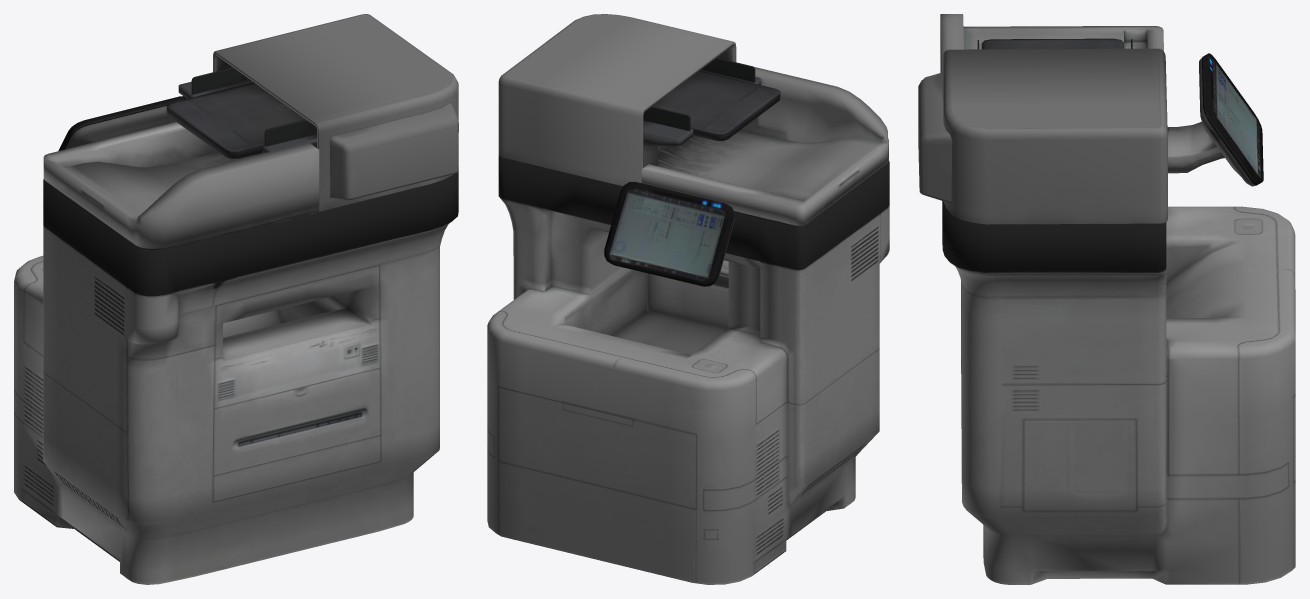
File: Printer.gltf
The picture shows the model from 3 angles, left to right: view 1: azimuth 30°, elevation 25°; view 2: azimuth 150°, elevation 25°; view 3: azimuth 270°, elevation 25°; orthographic projection. The views are drawn at different scales.
Parts seen in each view (by area): view 1: Object_2; view 2: Object_2; view 3: Object_2.
Boxes of the visible parts, left/top/right/bottom form: Object_2: left=14, top=14, right=458, bottom=584; Object_2: left=487, top=14, right=889, bottom=584; Object_2: left=918, top=14, right=1295, bottom=584.
Size of the model in its own units: 1.12 by 1.41 by 1.03.
